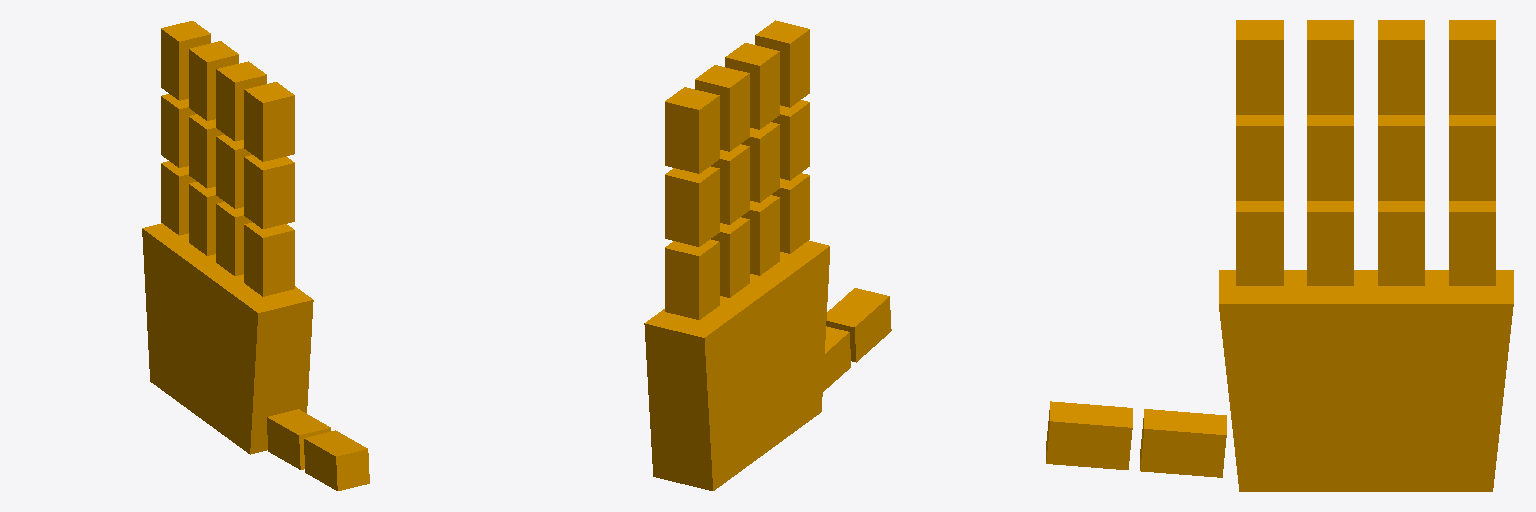
URDF robot description (biomed_hand):
<?xml version="1.0"?>
<robot name="biomed_hand" xmlns:xacro="http://ros.org/wiki/xacro">

  <!-- Hand base -->
  <link name="hand">
    <visual>
      <geometry>
        <mesh filename="package://biomed/urdf/biomed_model.dae" scale="1 1 1"/>
      </geometry>
    </visual>
    <inertial>
      <mass value="1.0"/>
      <inertia ixx="0.01" ixy="0.0" ixz="0.0" iyy="0.01" iyz="0.0" izz="0.01"/>
    </inertial>
  </link>

  <!-- Başparmak: a1 -> a2 -->
  <link name="a1">
    <visual>
      <geometry>
        <cylinder radius="0.01" length="0.03"/>
      </geometry>
    </visual>
    <inertial>
      <mass value="0.1"/>
      <inertia ixx="0.0001" ixy="0.0" ixz="0.0" iyy="0.0001" iyz="0.0" izz="0.0001"/>
    </inertial>
  </link>
  <joint name="joint_a1" type="revolute">
    <parent link="hand"/>
    <child link="a1"/>
    <origin xyz="0.03 0.02 0.0" rpy="0 0 0"/>
    <axis xyz="0 0 1"/>
    <limit lower="-1.57" upper="1.57" effort="1.0" velocity="1.0"/>
  </joint>

  <link name="a2">
    <visual>
      <geometry>
        <cylinder radius="0.01" length="0.03"/>
      </geometry>
    </visual>
    <inertial>
      <mass value="0.1"/>
      <inertia ixx="0.0001" ixy="0.0" ixz="0.0" iyy="0.0001" iyz="0.0" izz="0.0001"/>
    </inertial>
  </link>
  <joint name="joint_a2" type="revolute">
    <parent link="a1"/>
    <child link="a2"/>
    <origin xyz="0.02 0.0 0.0" rpy="0 0 0"/>
    <axis xyz="0 0 1"/>
    <limit lower="-1.57" upper="1.57" effort="1.0" velocity="1.0"/>
  </joint>

  <!-- İşaret Parmak: b1 -> b2 -> b3 -->
  <link name="b1">
    <visual>
      <geometry>
        <cylinder radius="0.01" length="0.03"/>
      </geometry>
    </visual>
    <inertial>
      <mass value="0.1"/>
      <inertia ixx="0.0001" ixy="0.0" ixz="0.0" iyy="0.0001" iyz="0.0" izz="0.0001"/>
    </inertial>
  </link>
  <joint name="joint_b1" type="revolute">
    <parent link="hand"/>
    <child link="b1"/>
    <origin xyz="0.02 0.06 0.0" rpy="0 0 0"/>
    <axis xyz="0 0 1"/>
    <limit lower="-1.57" upper="1.57" effort="1.0" velocity="1.0"/>
  </joint>

  <link name="b2">
    <visual>
      <geometry>
        <cylinder radius="0.01" length="0.03"/>
      </geometry>
    </visual>
    <inertial>
      <mass value="0.1"/>
      <inertia ixx="0.0001" ixy="0.0" ixz="0.0" iyy="0.0001" iyz="0.0" izz="0.0001"/>
    </inertial>
  </link>
  <joint name="joint_b2" type="revolute">
    <parent link="b1"/>
    <child link="b2"/>
    <origin xyz="0.015 0.0 0.0" rpy="0 0 0"/>
    <axis xyz="0 0 1"/>
    <limit lower="-1.57" upper="1.57" effort="1.0" velocity="1.0"/>
  </joint>

  <link name="b3">
    <visual>
      <geometry>
        <cylinder radius="0.01" length="0.03"/>
      </geometry>
    </visual>
    <inertial>
      <mass value="0.1"/>
      <inertia ixx="0.0001" ixy="0.0" ixz="0.0" iyy="0.0001" iyz="0.0" izz="0.0001"/>
    </inertial>
  </link>
  <joint name="joint_b3" type="revolute">
    <parent link="b2"/>
    <child link="b3"/>
    <origin xyz="0.015 0.0 0.0" rpy="0 0 0"/>
    <axis xyz="0 0 1"/>
    <limit lower="-1.57" upper="1.57" effort="1.0" velocity="1.0"/>
  </joint>

  <!-- Orta Parmak: c1 -> c2 -> c3 -->
  <link name="c1">
    <visual>
      <geometry>
        <cylinder radius="0.01" length="0.03"/>
      </geometry>
    </visual>
    <inertial>
      <mass value="0.1"/>
      <inertia ixx="0.0001" ixy="0.0" ixz="0.0" iyy="0.0001" iyz="0.0" izz="0.0001"/>
    </inertial>
  </link>
  <joint name="joint_c1" type="revolute">
    <parent link="hand"/>
    <child link="c1"/>
    <origin xyz="0.0 0.09 0.0" rpy="0 0 0"/>
    <axis xyz="0 0 1"/>
    <limit lower="-1.57" upper="1.57" effort="1.0" velocity="1.0"/>
  </joint>

  <link name="c2">
    <visual>
      <geometry>
        <cylinder radius="0.01" length="0.03"/>
      </geometry>
    </visual>
    <inertial>
      <mass value="0.1"/>
      <inertia ixx="0.0001" ixy="0.0" ixz="0.0" iyy="0.0001" iyz="0.0" izz="0.0001"/>
    </inertial>
  </link>
  <joint name="joint_c2" type="revolute">
    <parent link="c1"/>
    <child link="c2"/>
    <origin xyz="0.02 0.0 0.0" rpy="0 0 0"/>
    <axis xyz="0 0 1"/>
    <limit lower="-1.57" upper="1.57" effort="1.0" velocity="1.0"/>
  </joint>

  <link name="c3">
    <visual>
      <geometry>
        <cylinder radius="0.01" length="0.03"/>
      </geometry>
    </visual>
    <inertial>
      <mass value="0.1"/>
      <inertia ixx="0.0001" ixy="0.0" ixz="0.0" iyy="0.0001" iyz="0.0" izz="0.0001"/>
    </inertial>
  </link>
  <joint name="joint_c3" type="revolute">
    <parent link="c2"/>
    <child link="c3"/>
    <origin xyz="0.015 0.0 0.0" rpy="0 0 0"/>
    <axis xyz="0 0 1"/>
    <limit lower="-1.57" upper="1.57" effort="1.0" velocity="1.0"/>
  </joint>

  <!-- Yüzük Parmak: d1 -> d2 -> d3 -->
  <link name="d1">
    <visual>
      <geometry>
        <cylinder radius="0.01" length="0.03"/>
      </geometry>
    </visual>
    <inertial>
      <mass value="0.1"/>
      <inertia ixx="0.0001" ixy="0.0" ixz="0.0" iyy="0.0001" iyz="0.0" izz="0.0001"/>
    </inertial>
  </link>
  <joint name="joint_d1" type="revolute">
    <parent link="hand"/>
    <child link="d1"/>
    <origin xyz="-0.015 0.07 0.0" rpy="0 0 0"/>
    <axis xyz="0 0 1"/>
    <limit lower="-1.57" upper="1.57" effort="1.0" velocity="1.0"/>
  </joint>

  <link name="d2">
    <visual>
      <geometry>
        <cylinder radius="0.01" length="0.03"/>
      </geometry>
    </visual>
    <inertial>
      <mass value="0.1"/>
      <inertia ixx="0.0001" ixy="0.0" ixz="0.0" iyy="0.0001" iyz="0.0" izz="0.0001"/>
    </inertial>
  </link>
  <joint name="joint_d2" type="revolute">
    <parent link="d1"/>
    <child link="d2"/>
    <origin xyz="0.015 0.0 0.0" rpy="0 0 0"/>
    <axis xyz="0 0 1"/>
    <limit lower="-1.57" upper="1.57" effort="1.0" velocity="1.0"/>
  </joint>

  <link name="d3">
    <visual>
      <geometry>
        <cylinder radius="0.01" length="0.03"/>
      </geometry>
    </visual>
    <inertial>
      <mass value="0.1"/>
      <inertia ixx="0.0001" ixy="0.0" ixz="0.0" iyy="0.0001" iyz="0.0" izz="0.0001"/>
    </inertial>
  </link>
  <joint name="joint_d3" type="revolute">
    <parent link="d2"/>
    <child link="d3"/>
    <origin xyz="0.015 0.0 0.0" rpy="0 0 0"/>
    <axis xyz="0 0 1"/>
    <limit lower="-1.57" upper="1.57" effort="1.0" velocity="1.0"/>
  </joint>

  <!-- Serçe Parmak: e1 -> e2 -> e3 -->
  <link name="e1">
    <visual>
      <geometry>
        <cylinder radius="0.01" length="0.03"/>
      </geometry>
    </visual>
    <inertial>
      <mass value="0.1"/>
      <inertia ixx="0.0001" ixy="0.0" ixz="0.0" iyy="0.0001" iyz="0.0" izz="0.0001"/>
    </inertial>
  </link>
  <joint name="joint_e1" type="revolute">
    <parent link="hand"/>
    <child link="e1"/>
    <origin xyz="-0.03 0.05 0.0" rpy="0 0 0"/>
    <axis xyz="0 0 1"/>
    <limit lower="-1.57" upper="1.57" effort="1.0" velocity="1.0"/>
  </joint>

  <link name="e2">
    <visual>
      <geometry>
        <cylinder radius="0.01" length="0.03"/>
      </geometry>
    </visual>
    <inertial>
      <mass value="0.1"/>
      <inertia ixx="0.0001" ixy="0.0" ixz="0.0" iyy="0.0001" iyz="0.0" izz="0.0001"/>
    </inertial>
  </link>
  <joint name="joint_e2" type="revolute">
    <parent link="e1"/>
    <child link="e2"/>
    <origin xyz="0.015 0.0 0.0" rpy="0 0 0"/>
    <axis xyz="0 0 1"/>
    <limit lower="-1.57" upper="1.57" effort="1.0" velocity="1.0"/>
  </joint>

  <link name="e3">
    <visual>
      <geometry>
        <cylinder radius="0.01" length="0.03"/>
      </geometry>
    </visual>
    <inertial>
      <mass value="0.1"/>
      <inertia ixx="0.0001" ixy="0.0" ixz="0.0" iyy="0.0001" iyz="0.0" izz="0.0001"/>
    </inertial>
  </link>
  <joint name="joint_e3" type="revolute">
    <parent link="e2"/>
    <child link="e3"/>
    <origin xyz="0.015 0.0 0.0" rpy="0 0 0"/>
    <axis xyz="0 0 1"/>
    <limit lower="-1.57" upper="1.57" effort="1.0" velocity="1.0"/>
  </joint>

</robot>

--- What the picture shows (computed from the rendered views, not written in the file) ---
The picture shows the robot from 3 angles, left to right: view 1: azimuth 30°, elevation 25°; view 2: azimuth 150°, elevation 25°; view 3: azimuth 270°, elevation 25°; orthographic projection.
Model biomed_hand with 15 links and 14 joints (14 revolute), rooted at hand, posed all joints at 0.
Visible links, largest first — view 1: hand; view 2: hand; view 3: hand.
Link boxes in pixels (left/top/right/bottom): hand: left=142, top=21, right=369, bottom=490; hand: left=644, top=20, right=891, bottom=490; hand: left=1046, top=20, right=1513, bottom=491.
Size in the robot's own frame: 0.6881 by 3.96 by 4.15 metres.
Meshes: 1 distinct files referenced, 1 mesh visuals loaded (1 Collada DAE).
